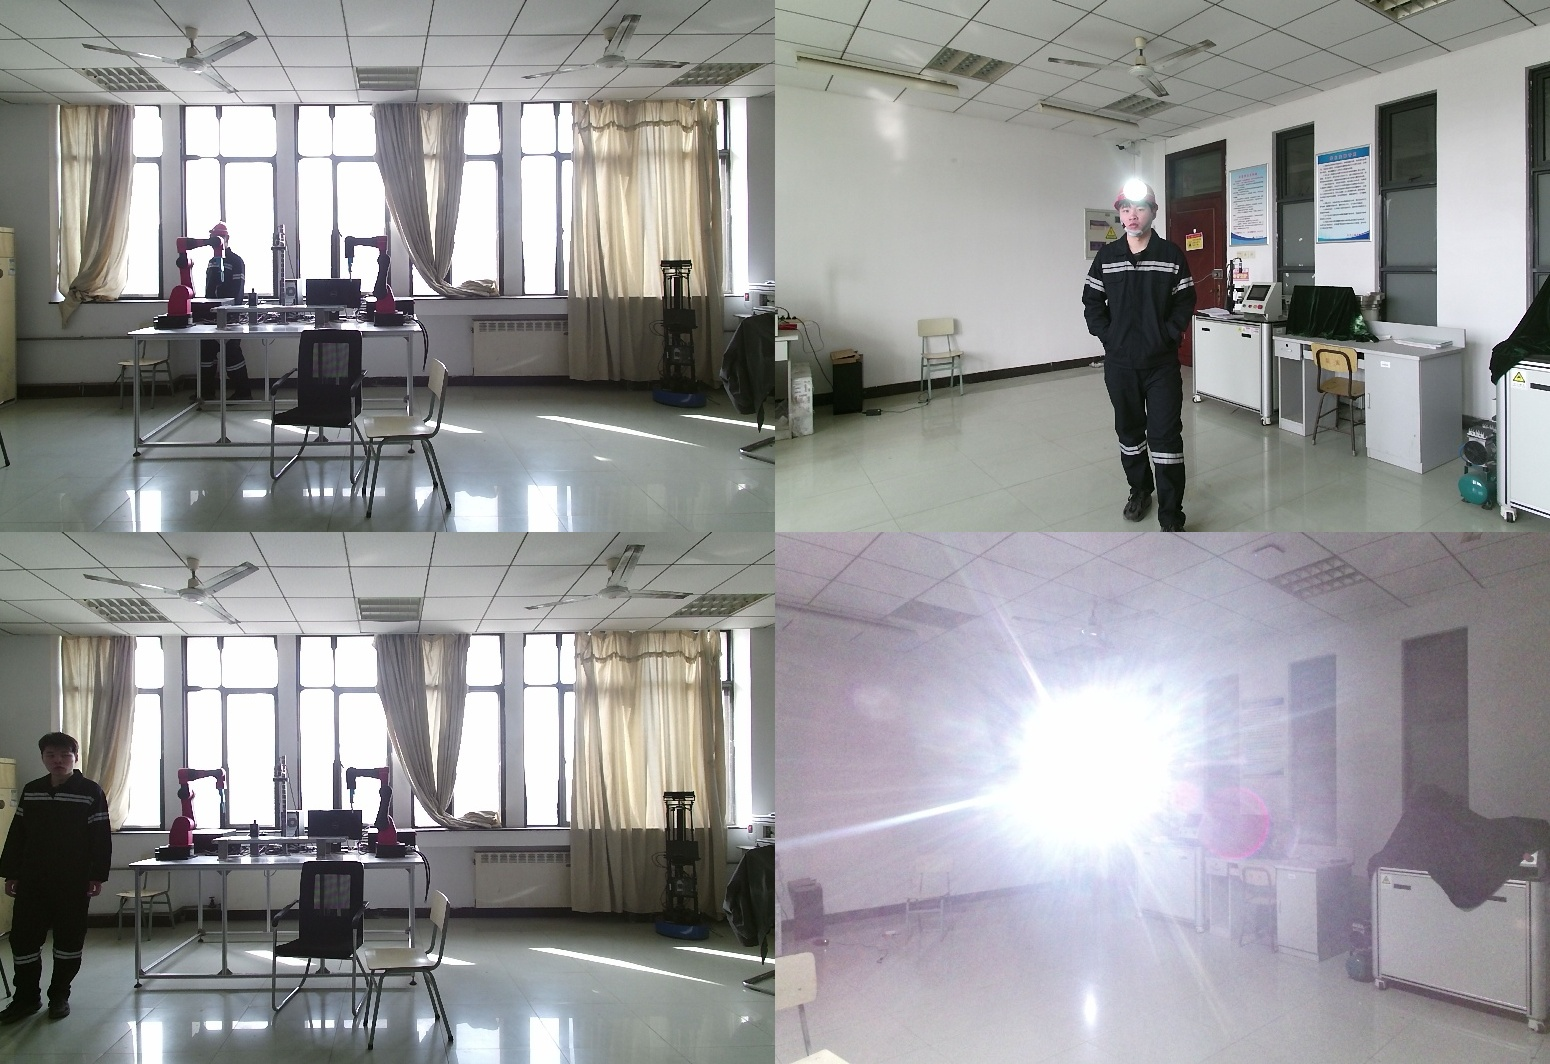person: (1079, 182, 1209, 532), (3, 732, 118, 1019), (190, 224, 255, 403), (1065, 768, 1108, 894)
